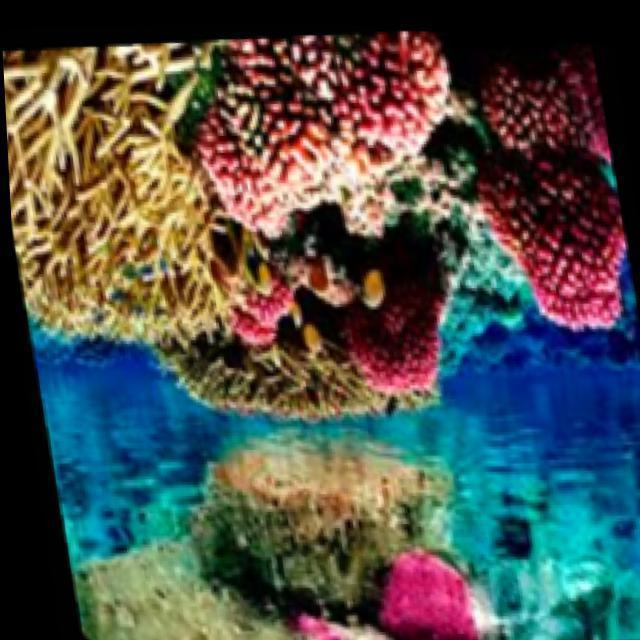Dead Coral: (154, 323, 363, 436)
